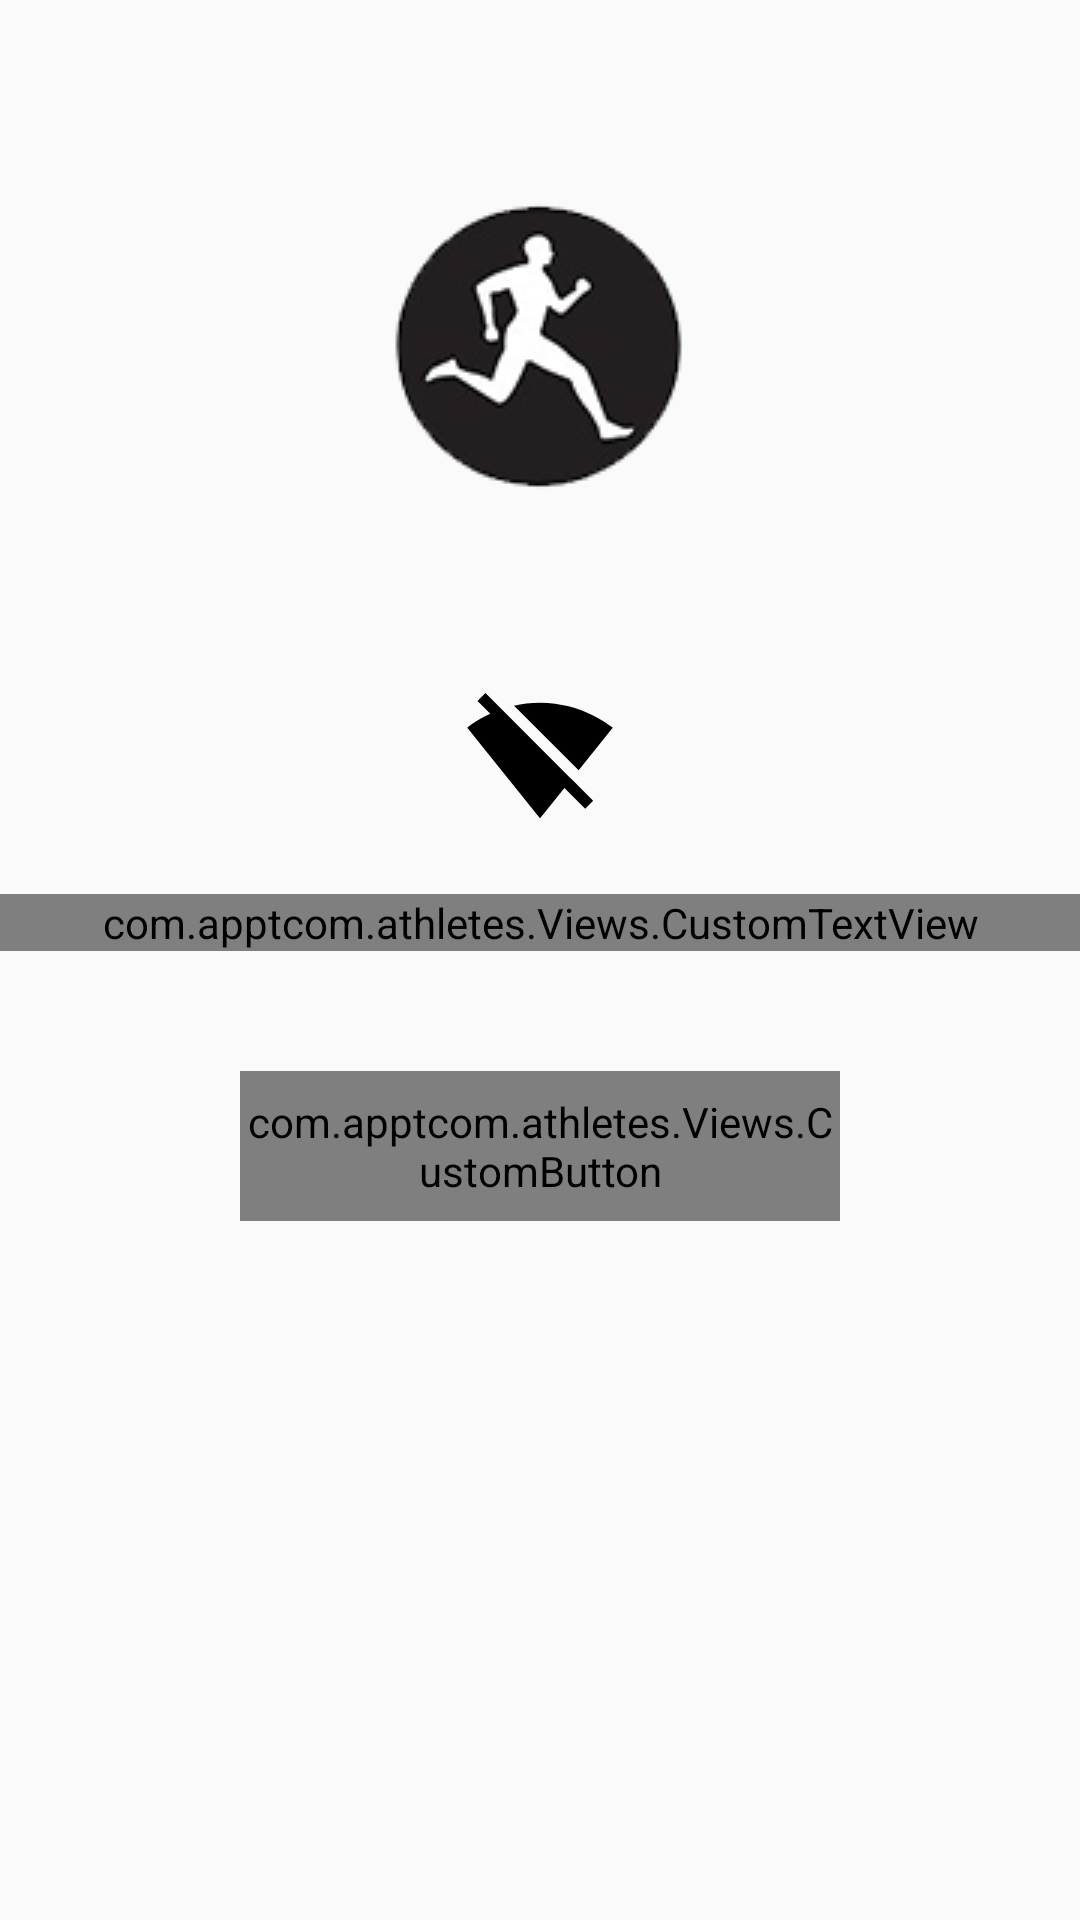

Named icons in this screenshot (1080px x 1920px) and their bounding boxes, (x1, y1, x2, y2):
holder athlete: (395, 206, 682, 487)
no internet: (467, 693, 613, 818)
